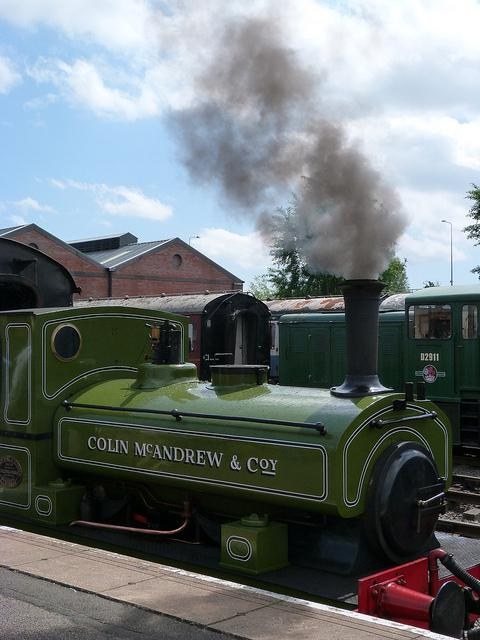Train: (3, 238, 480, 625), (279, 286, 480, 454)
